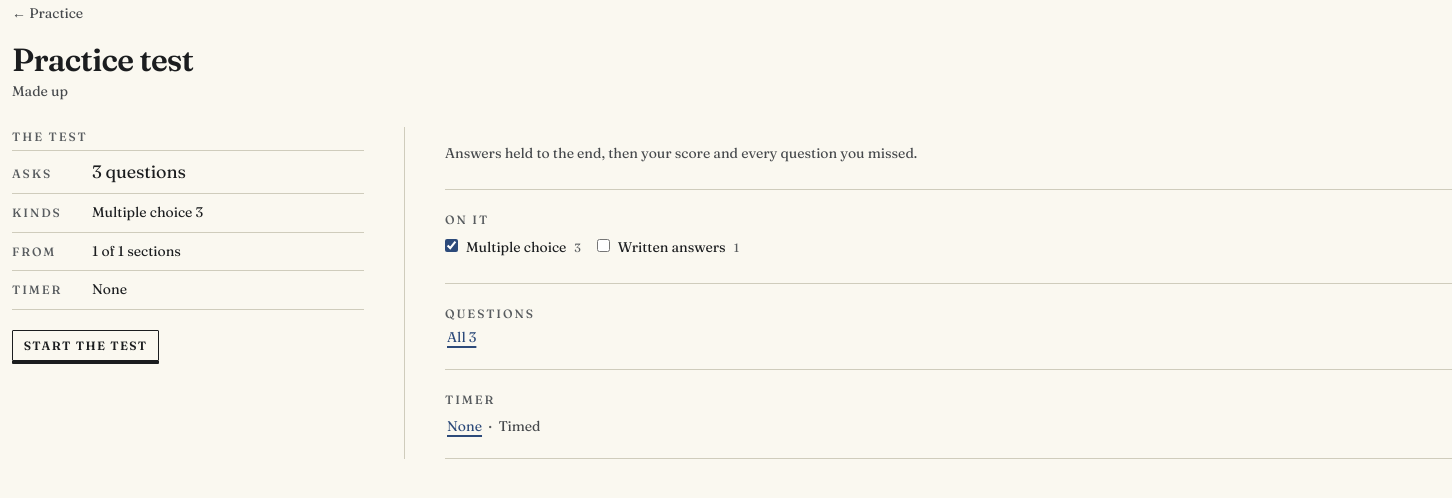
Scenario: practice test: what goes on it › is multiple choice alone unless written answers are ticked
Expected: the checkbox labelled "Multiple choice 3" is checked, [445,239,458,252]
Expected: the button "All 3" is shown, [445,327,478,349]
Click the checkbox labelled "Written answers 1" at [603, 246], box [597,239,610,252]
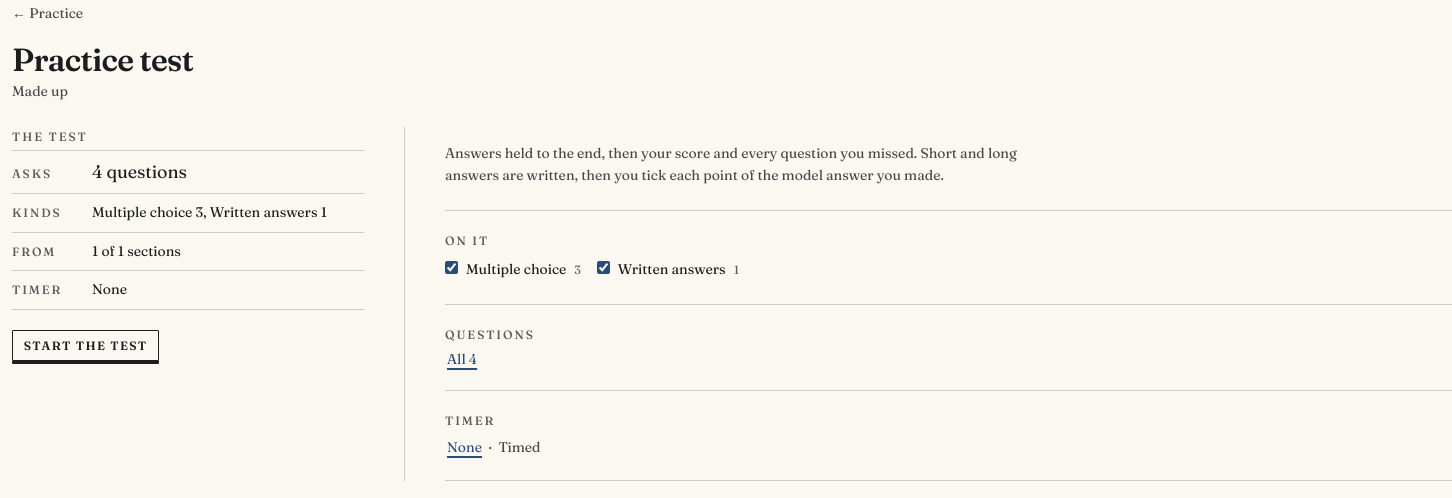
Expected: the button "All 4" is shown, [445,348,479,370]
